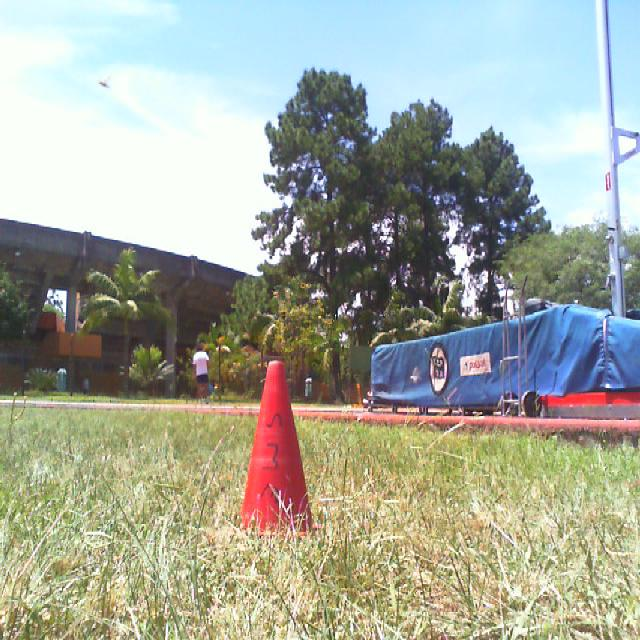cone: (239, 361, 321, 537)
